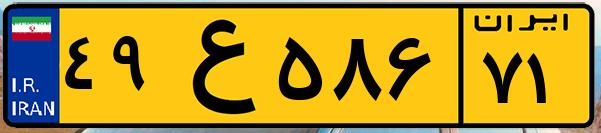1: (525, 38, 570, 115)
4: (57, 26, 110, 100)
5: (270, 28, 330, 110)
6: (385, 28, 445, 110)
7: (475, 38, 525, 113)
8: (330, 28, 385, 110)
9: (110, 28, 158, 98)
ع: (158, 12, 270, 120)
